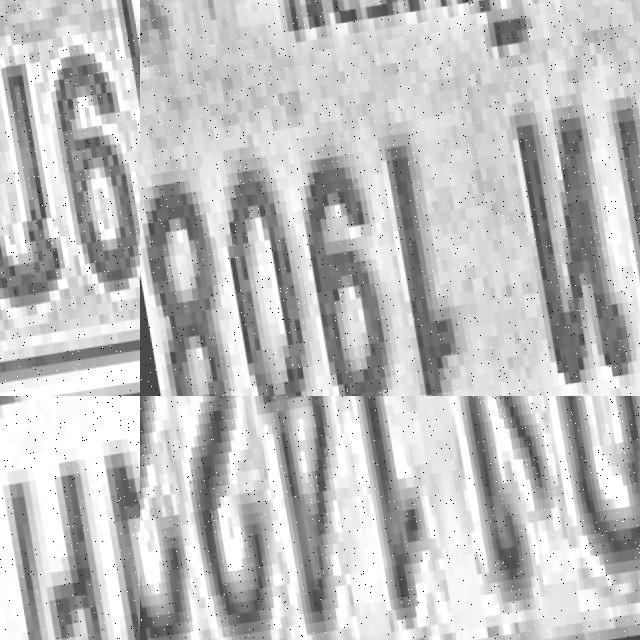license-plate: (140, 0, 640, 396), (140, 396, 640, 640), (0, 0, 140, 396), (0, 396, 140, 640)
